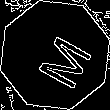M_NW: (22, 22, 88, 88)
